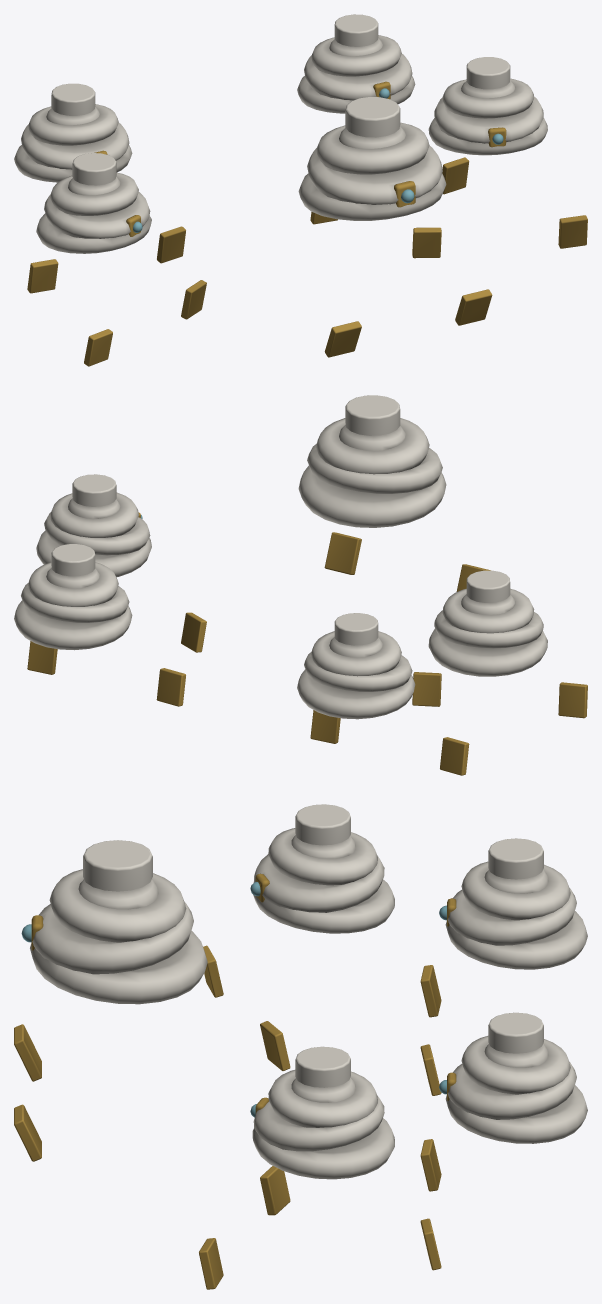
Rendered from lather-linen-lod0.glb.
The picture shows the model from 3 angles, top to bottom: view 1: azimuth 30°, elevation 25°; view 2: azimuth 150°, elevation 25°; view 3: azimuth 270°, elevation 25°; orthographic projection. The views are drawn at different scales.
Parts seen in each view (by area): view 1: cap_hat, att2_hat, att3_hat, att0_hat, att1_hat, cap_arm_l_trim, cap_arm_r_trim, att2_arm_r_trim, att2_arm_l_trim, att1_arm_r_trim, att1_arm_l_trim, att3_arm_r_trim (+2 smaller); view 2: cap_hat, att3_hat, att1_hat, att0_hat, att2_hat, cap_arm_l_trim, att3_arm_r_trim, att3_arm_l_trim, att0_arm_r_trim, att1_arm_r_trim, att0_arm_l_trim, att1_arm_l_trim (+1 smaller); view 3: cap_hat, att2_hat, att1_hat, att0_hat, att3_hat, att2_arm_r_trim, cap_arm_r_trim, cap_arm_l_trim, att3_arm_l_trim, att2_arm_l_trim, att0_arm_r_trim, att1_arm_r_trim.
Boxes of the visible parts, left/top/right/bottom form: cap_hat: left=298, top=97, right=446, bottom=220; att2_hat: left=428, top=57, right=547, bottom=155; att3_hat: left=36, top=153, right=151, bottom=253; att0_hat: left=297, top=14, right=415, bottom=113; att1_hat: left=14, top=83, right=132, bottom=182; cap_arm_l_trim: left=455, top=289, right=492, bottom=325; cap_arm_r_trim: left=324, top=321, right=361, bottom=357; att2_arm_r_trim: left=412, top=227, right=441, bottom=258; att2_arm_l_trim: left=558, top=215, right=587, bottom=248; att1_arm_r_trim: left=27, top=259, right=58, bottom=293; att1_arm_l_trim: left=157, top=226, right=185, bottom=263; att3_arm_r_trim: left=84, top=329, right=112, bottom=366; cap_hat: left=298, top=395, right=446, bottom=527; att3_hat: left=428, top=570, right=547, bottom=676; att1_hat: left=297, top=613, right=415, bottom=719; att0_hat: left=14, top=544, right=132, bottom=650; att2_hat: left=36, top=474, right=151, bottom=577; cap_arm_l_trim: left=324, top=532, right=361, bottom=574; att3_arm_r_trim: left=558, top=682, right=587, bottom=718; att3_arm_l_trim: left=412, top=672, right=441, bottom=706; att0_arm_r_trim: left=156, top=668, right=185, bottom=706; att1_arm_r_trim: left=440, top=737, right=469, bottom=775; att0_arm_l_trim: left=27, top=641, right=57, bottom=674; att1_arm_l_trim: left=310, top=710, right=340, bottom=743; cap_hat: left=21, top=840, right=207, bottom=1004; att2_hat: left=250, top=1046, right=394, bottom=1179; att1_hat: left=439, top=838, right=587, bottom=969; att0_hat: left=439, top=1012, right=587, bottom=1143; att3_hat: left=250, top=804, right=394, bottom=933; att2_arm_r_trim: left=260, top=1166, right=290, bottom=1215; cap_arm_r_trim: left=14, top=1024, right=41, bottom=1081; cap_arm_l_trim: left=14, top=1104, right=41, bottom=1161; att3_arm_l_trim: left=260, top=1021, right=290, bottom=1070; att2_arm_l_trim: left=199, top=1238, right=223, bottom=1289; att0_arm_r_trim: left=420, top=1139, right=441, bottom=1191; att1_arm_r_trim: left=420, top=965, right=441, bottom=1017.
Bounding box in the file's own units: 2.2 × 0.9415 × 1.73.
